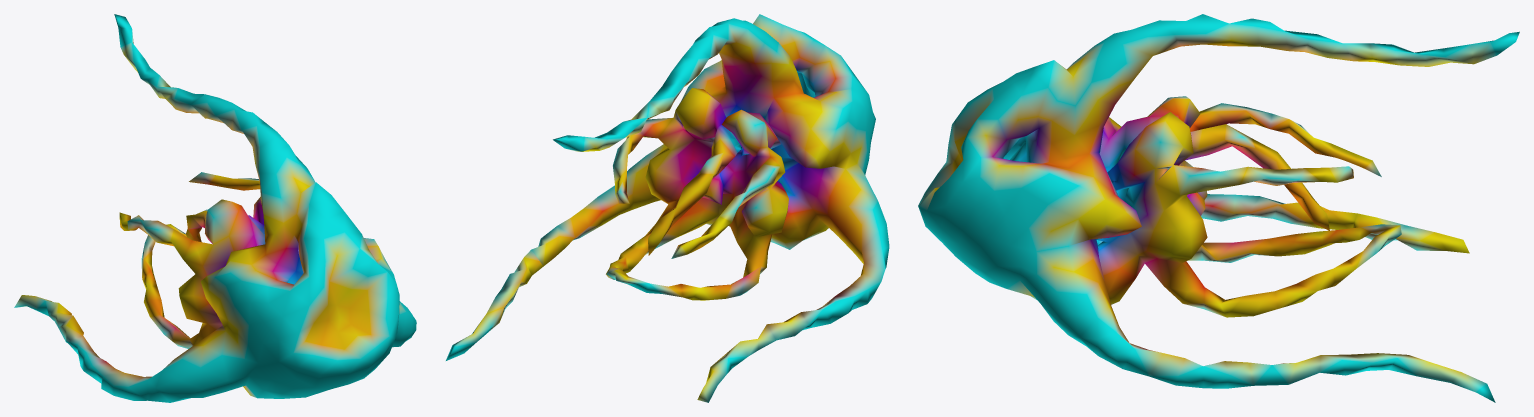
The model's file is jelly_93.gltf.
3 renders of one model, left to right at view 1: azimuth 30°, elevation 25°; view 2: azimuth 150°, elevation 25°; view 3: azimuth 270°, elevation 25°, orthographic. The views are drawn at different scales.
Visible parts, largest first — view 1: jellysquid3; view 2: jellysquid3; view 3: jellysquid3.
Boxes of the visible parts, <box> form: jellysquid3: <box>14,14,416,402</box>; jellysquid3: <box>446,14,889,402</box>; jellysquid3: <box>918,14,1519,402</box>.
Size of the model in its own units: 6.88 by 5.76 by 10.15.
